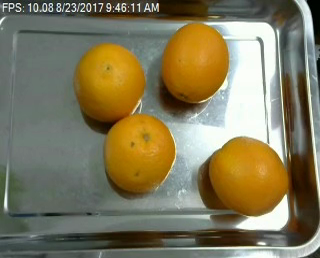Orange: (207, 136, 290, 217), (74, 41, 147, 121), (103, 113, 177, 191), (161, 22, 229, 103)
